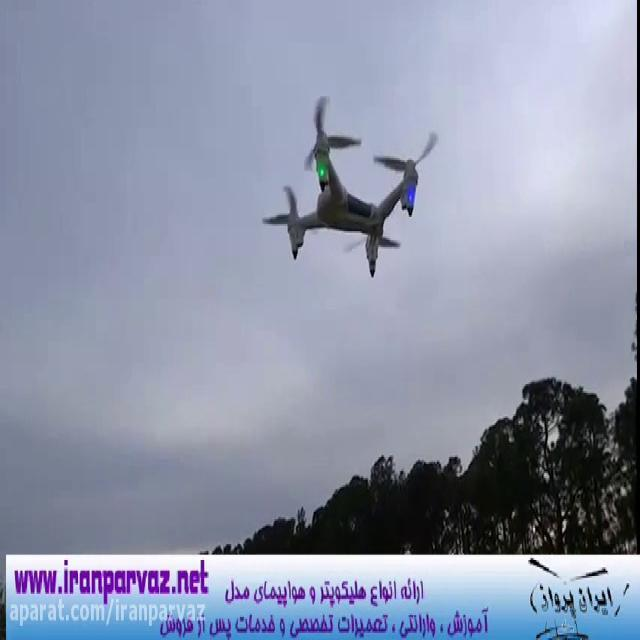drone: (256, 89, 440, 279)
